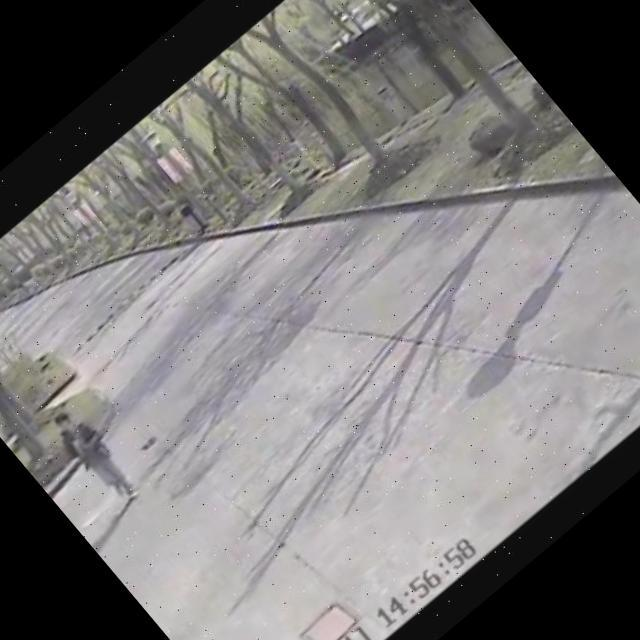person: (28, 392, 150, 524)
